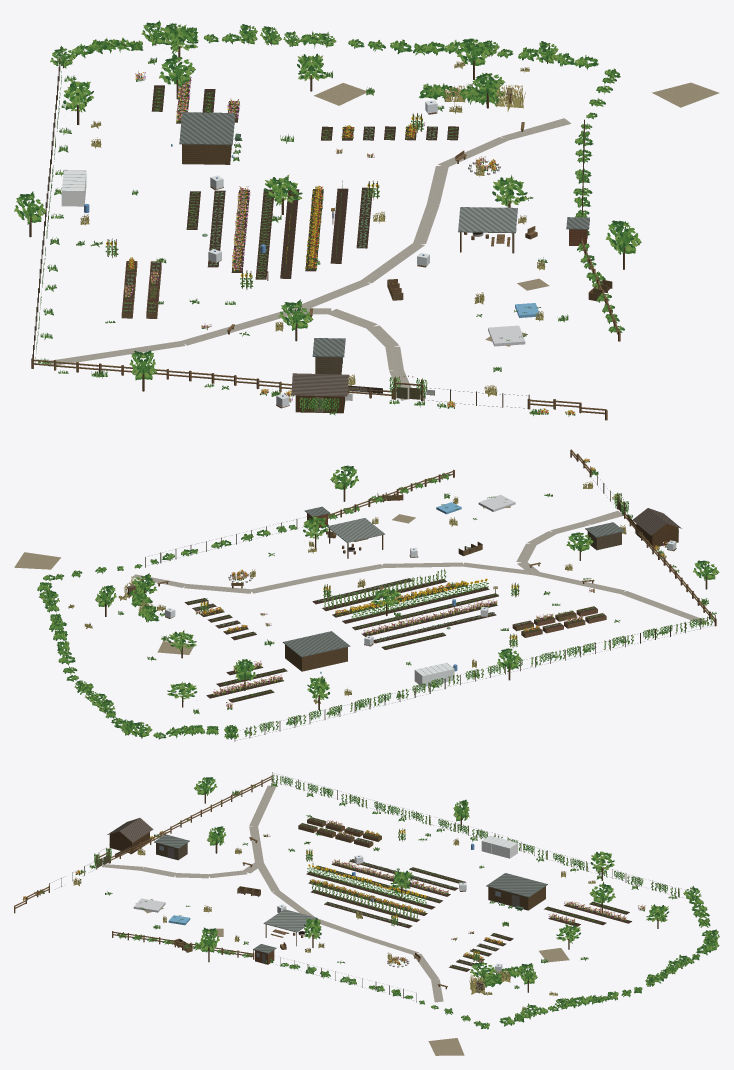
Rendered from qgh.glb.
3 renders of one model, top to bottom at view 1: azimuth 30°, elevation 25°; view 2: azimuth 150°, elevation 25°; view 3: azimuth 270°, elevation 25°, orthographic. The views are drawn at different scales.
Visible parts, largest first — view 1: qgh; view 2: qgh; view 3: qgh.
Boxes of the visible parts, bbox=[...] form: qgh: bbox=[14, 20, 719, 420]; qgh: bbox=[14, 449, 719, 741]; qgh: bbox=[14, 772, 719, 1055].
Bounding box in the file's own units: 107 × 9.04 × 119.
Materials: 7 (7 with a texture image).
